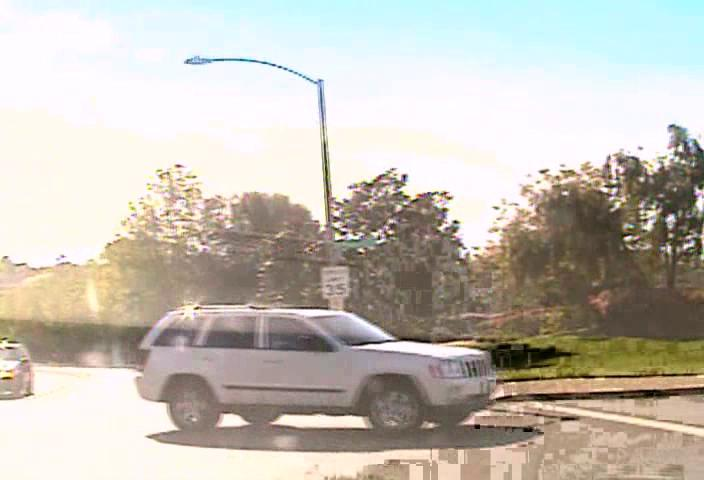speedLimit35: (319, 264, 349, 300)
